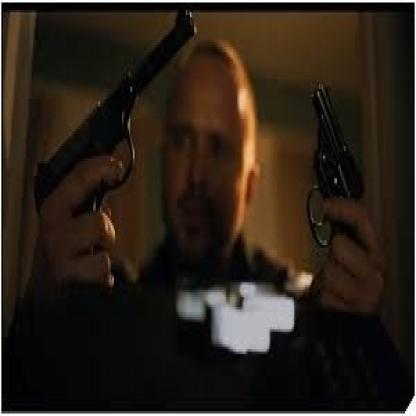Pistol: (21, 12, 202, 264), (272, 67, 373, 260)
